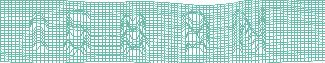5: (60, 6, 95, 58)
8: (117, 11, 152, 58)
9: (179, 9, 212, 57)
N: (229, 6, 269, 57)
t: (24, 11, 54, 55)
